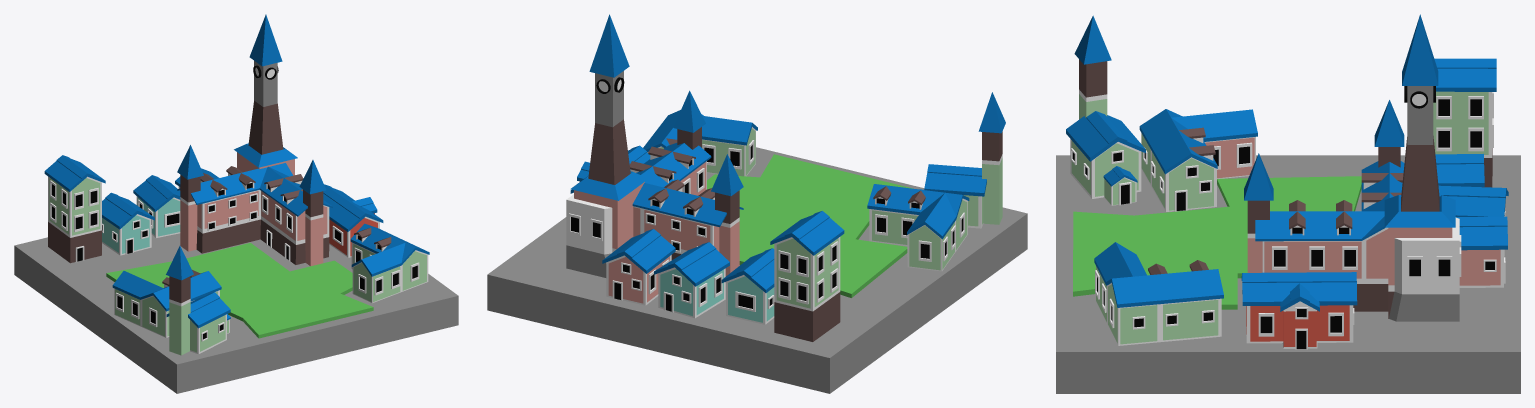
3 views of the same model, side by side, from view 1: azimuth 30°, elevation 25°; view 2: azimuth 150°, elevation 25°; view 3: azimuth 270°, elevation 25° (orthographic). The views are drawn at different scales.
Parts seen in each view (by area): view 1: Mesh_2x2_V2; view 2: Mesh_2x2_V2; view 3: Mesh_2x2_V2.
Part boxes in pixels (left/top/right/bottom): Mesh_2x2_V2: left=14, top=14, right=458, bottom=393; Mesh_2x2_V2: left=487, top=14, right=1027, bottom=393; Mesh_2x2_V2: left=1056, top=14, right=1520, bottom=393.
Size of the model in its own units: 200 by 159 by 200.
